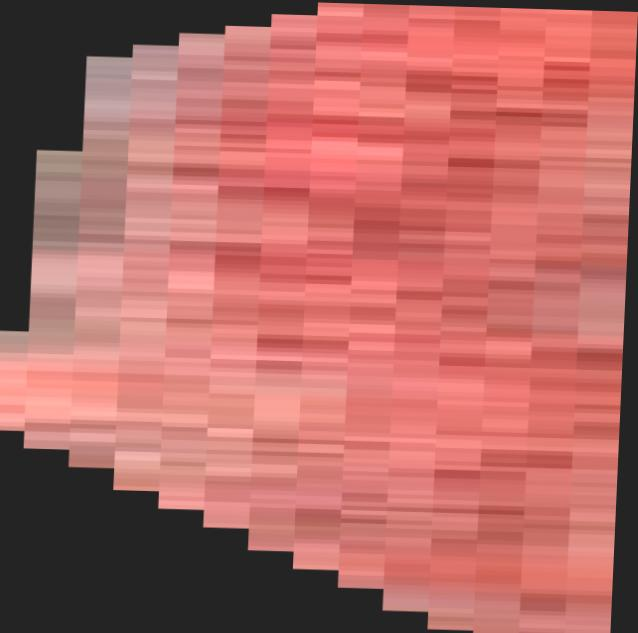Pitting Corrosion: (0, 1, 638, 633)
